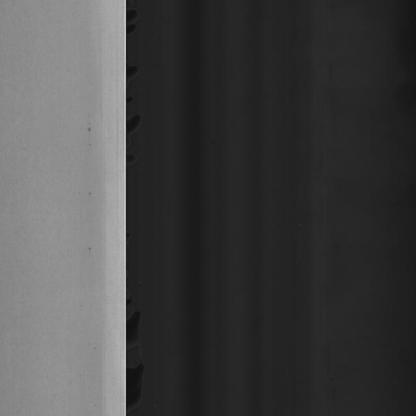inclusion: (86, 113, 94, 142), (86, 181, 95, 201), (86, 239, 95, 257)
